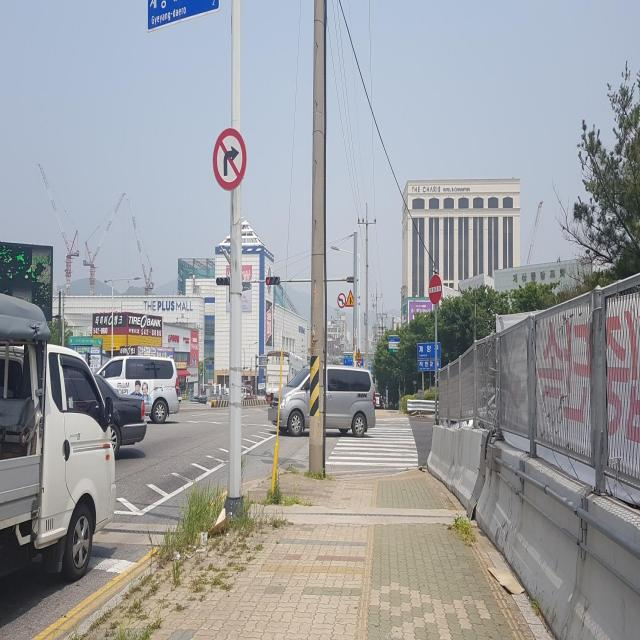횡단보도: (325, 418, 419, 469)
